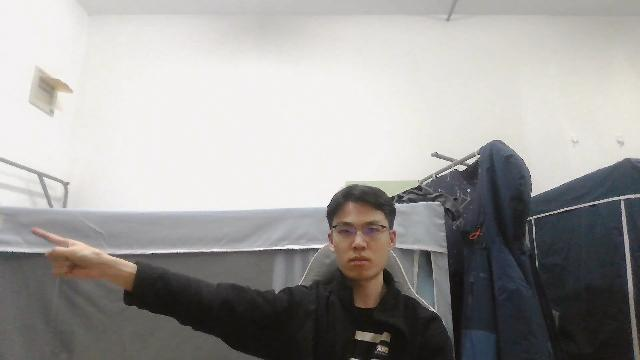one: (28, 225, 126, 283)
